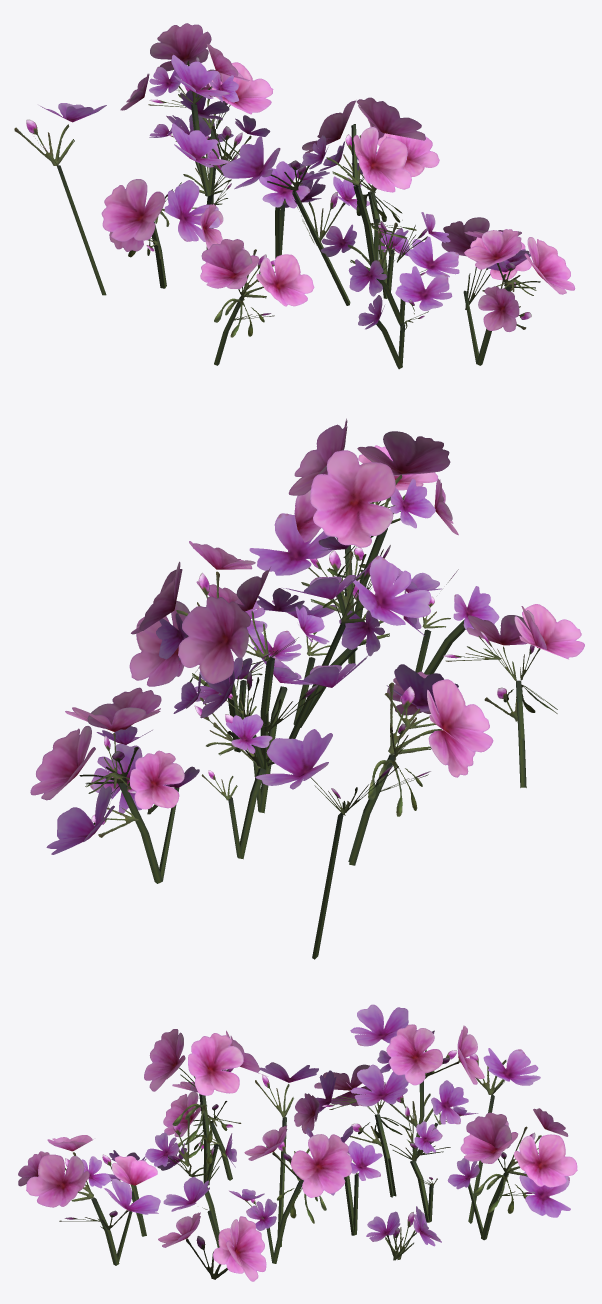
File: scene_lawennushandao_zhiwu07.FBX
3 renders of one model, top to bottom at view 1: azimuth 30°, elevation 25°; view 2: azimuth 150°, elevation 25°; view 3: azimuth 270°, elevation 25°, orthographic. The views are drawn at different scales.
Parts seen in each view (by area): view 1: scene_lawennushandao_zhiwu07; view 2: scene_lawennushandao_zhiwu07; view 3: scene_lawennushandao_zhiwu07.
Part boxes in pixels (bbox=[...]): scene_lawennushandao_zhiwu07: bbox=[14, 23, 575, 369]; scene_lawennushandao_zhiwu07: bbox=[30, 418, 584, 959]; scene_lawennushandao_zhiwu07: bbox=[18, 1004, 577, 1281].
Bounding box in the file's own units: 171 × 129 × 276.
